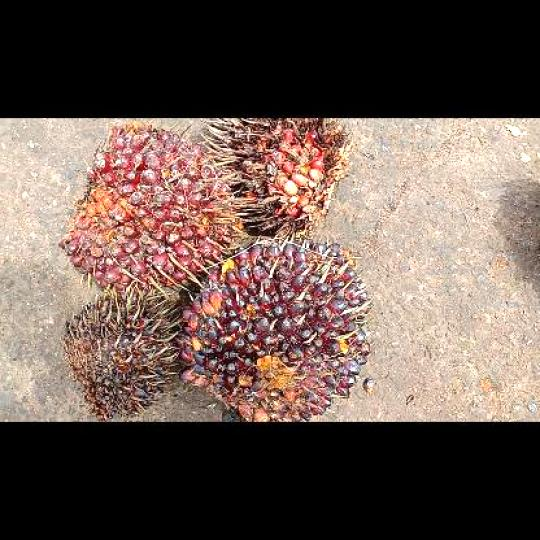kurang masak: (173, 234, 373, 420)
masak: (55, 120, 236, 293)
terlalu masak: (198, 118, 352, 238)
